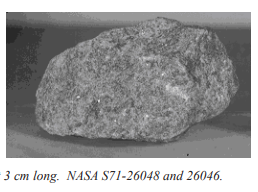Basalt: (19, 14, 242, 143)
